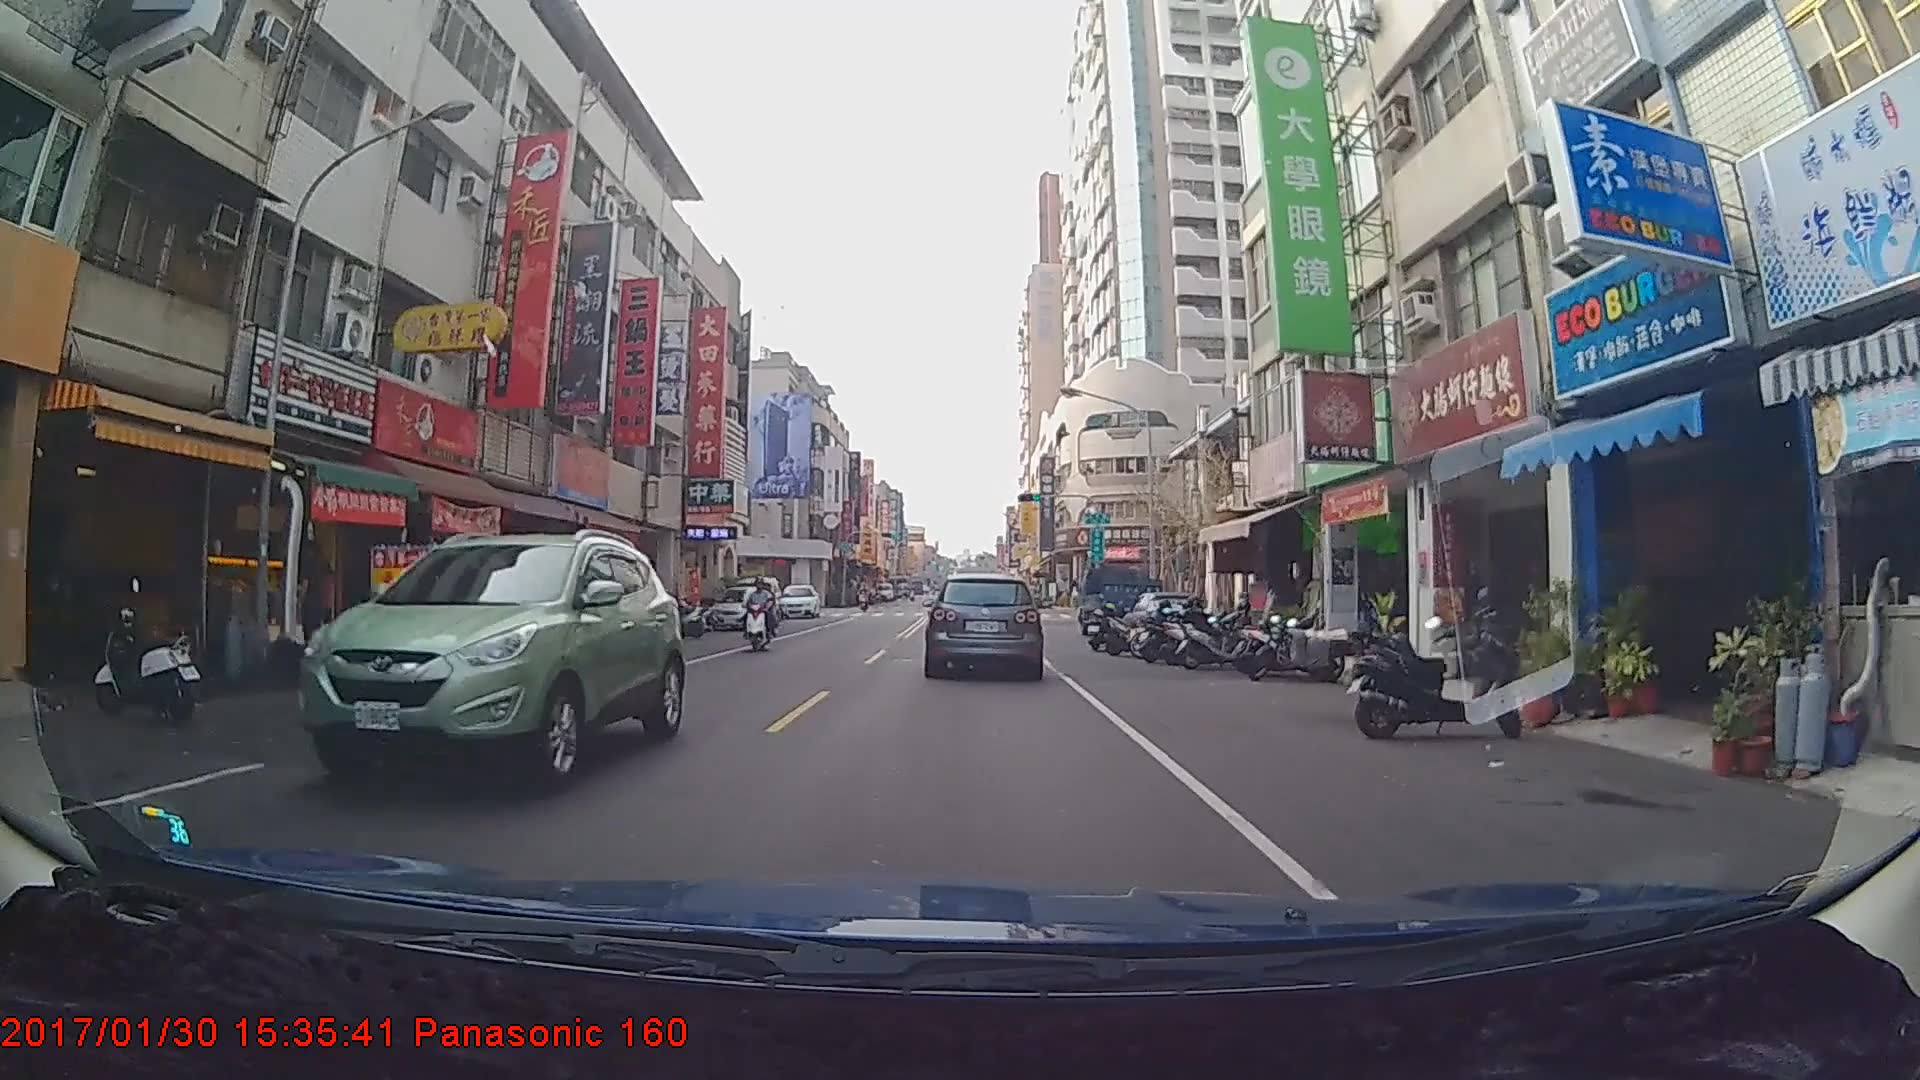rider: (743, 574, 784, 650)
vehicle: (295, 528, 686, 790), (927, 571, 1040, 677), (1075, 564, 1165, 636), (707, 583, 784, 632), (777, 582, 822, 619)
